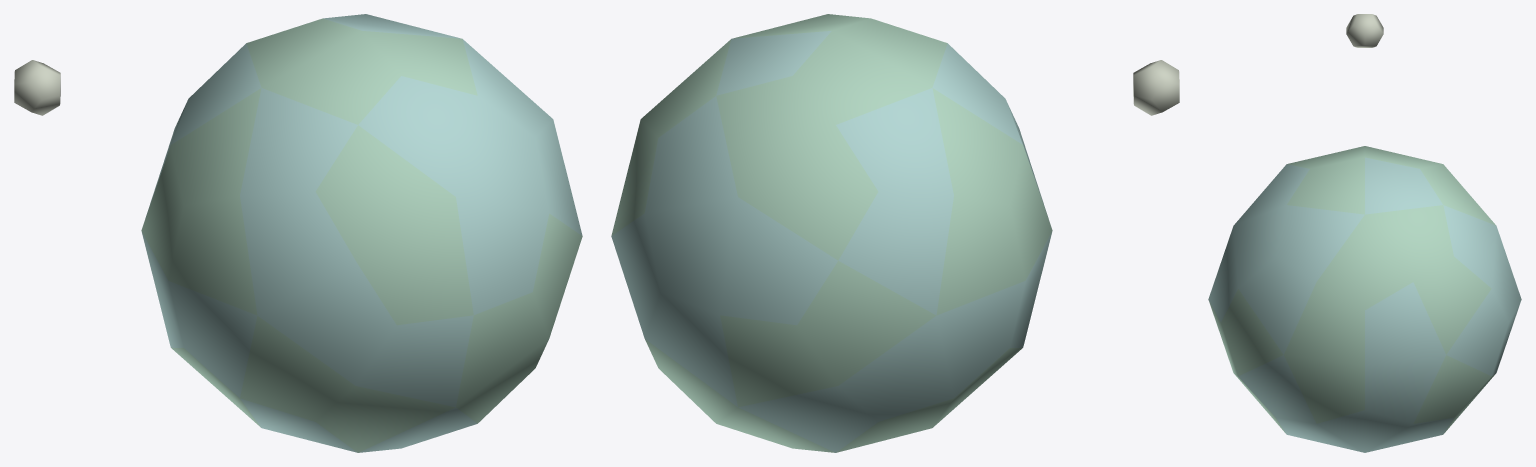
File: planetWithMoon.fbx
The picture shows the model from 3 angles, left to right: view 1: azimuth 30°, elevation 25°; view 2: azimuth 150°, elevation 25°; view 3: azimuth 270°, elevation 25°; orthographic projection. The views are drawn at different scales.
Parts seen in each view (by area): view 1: planet3; view 2: planet3; view 3: planet3.
Part boxes in pixels (x1=…): planet3: x1=14, y1=14, x2=582, y2=452; planet3: x1=611, y1=14, x2=1179, y2=452; planet3: x1=1208, y1=14, x2=1521, y2=452.
Bounding box in the file's own units: 6.32 × 5.04 × 4.52.
